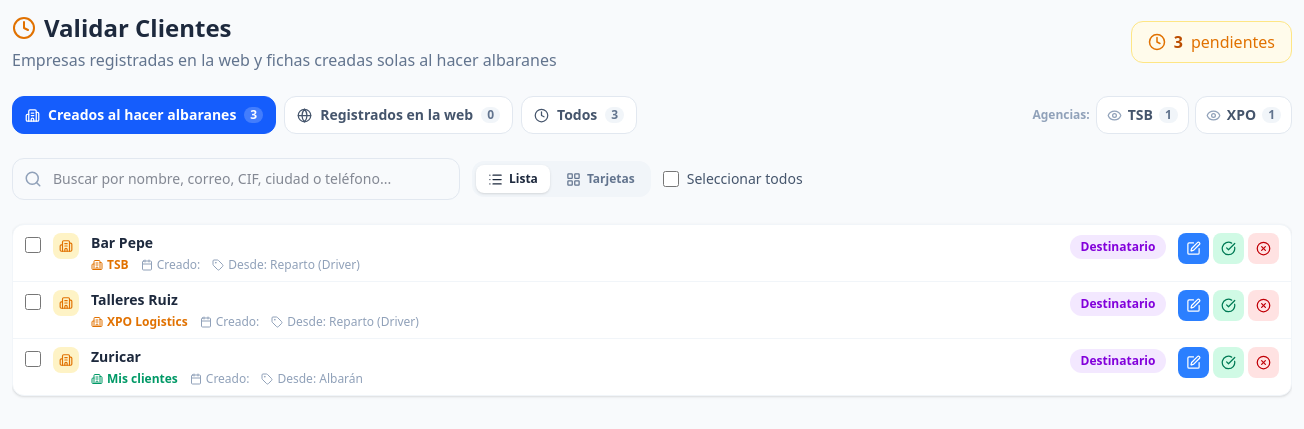
Test case: Validar Clientes — quitar de la vista las fichas de TSB, TXT y XPO › al pinchar una agencia sus fichas dejan de verse y las demás siguen
Click the button with aria-label "Quitar de la vista las fichas de TSB": (1142, 115) [1096,96,1189,134]
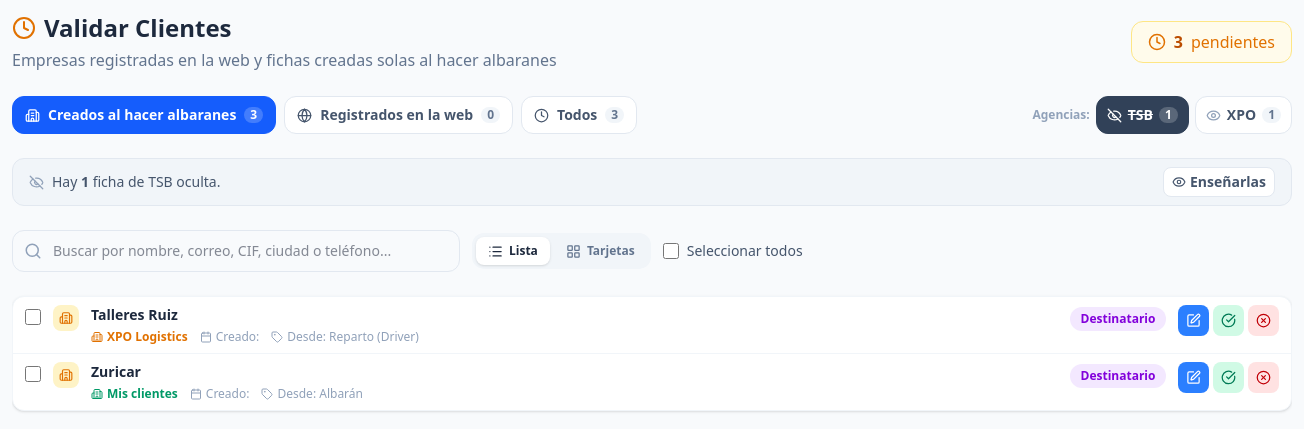
Expected: the text "Talleres Ruiz" is shown, [91,305,178,325]
Result: the text "Bar Pepe" is gone
